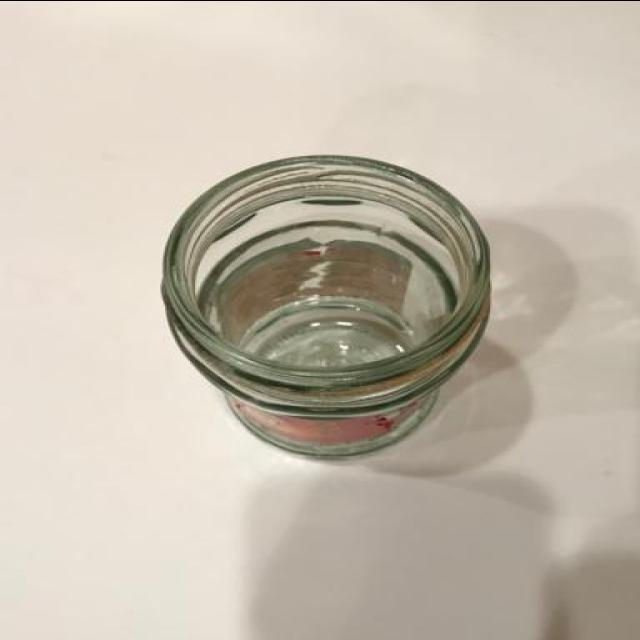glass: (158, 150, 498, 454)
